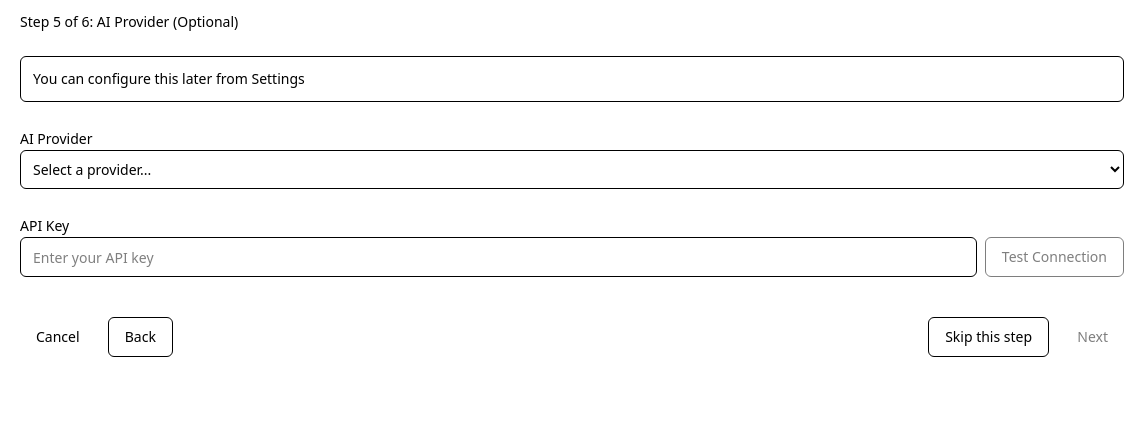
Scenario: Step 5: AI Provider Configuration › displays success state after successful connection test
Select "OpenAI" in the dropdown with test id "ai-provider-select". click: {"x": 572, "y": 170}
box: [20,150,1124,189]
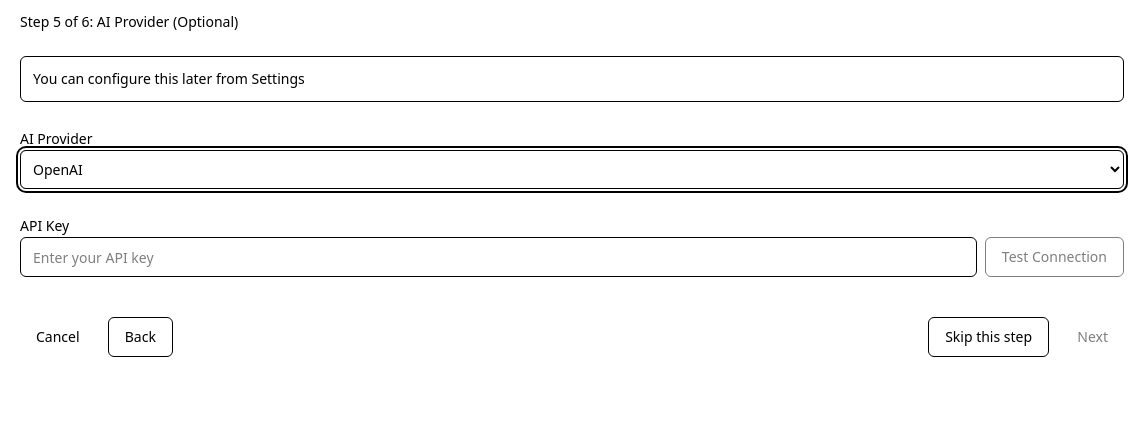
Type "test-api-key" into the password field with test id "api-key-input". click: {"x": 498, "y": 257}
box: [20,237,977,277]
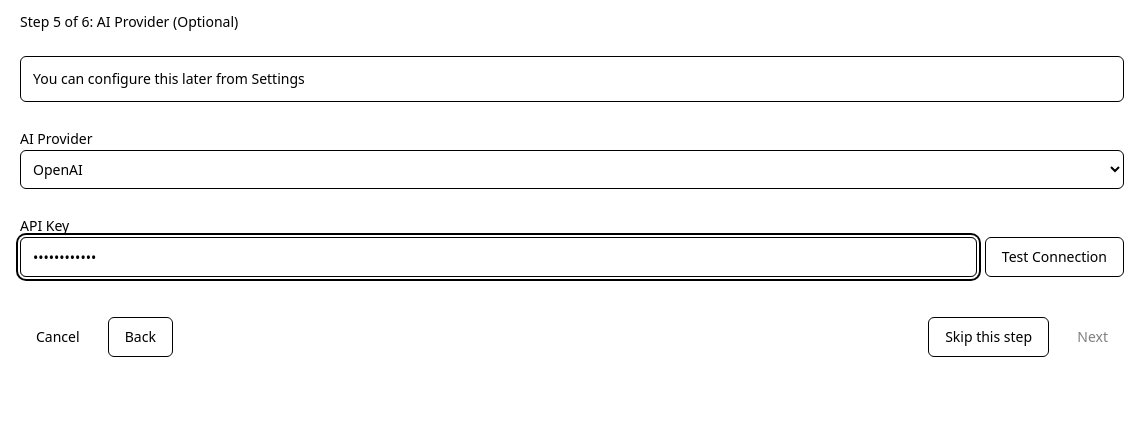
Click the button with test id "test-connection-button". click: {"x": 1054, "y": 257}
box: [985,237,1124,277]
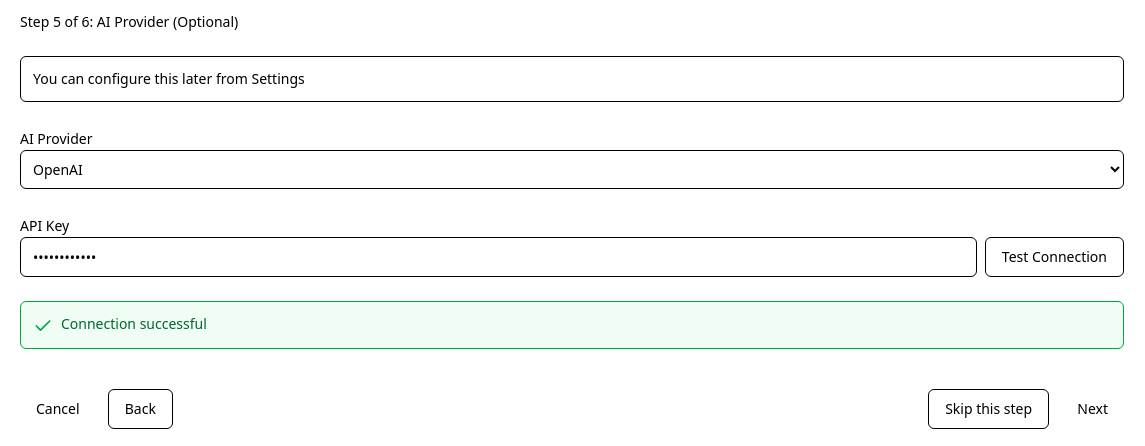
Expected: the message "Connection successful" is shown, [20,301,1124,349]
Expected: the message with test id "connection-test-result" reads "Connection successful", [61,314,207,333]
